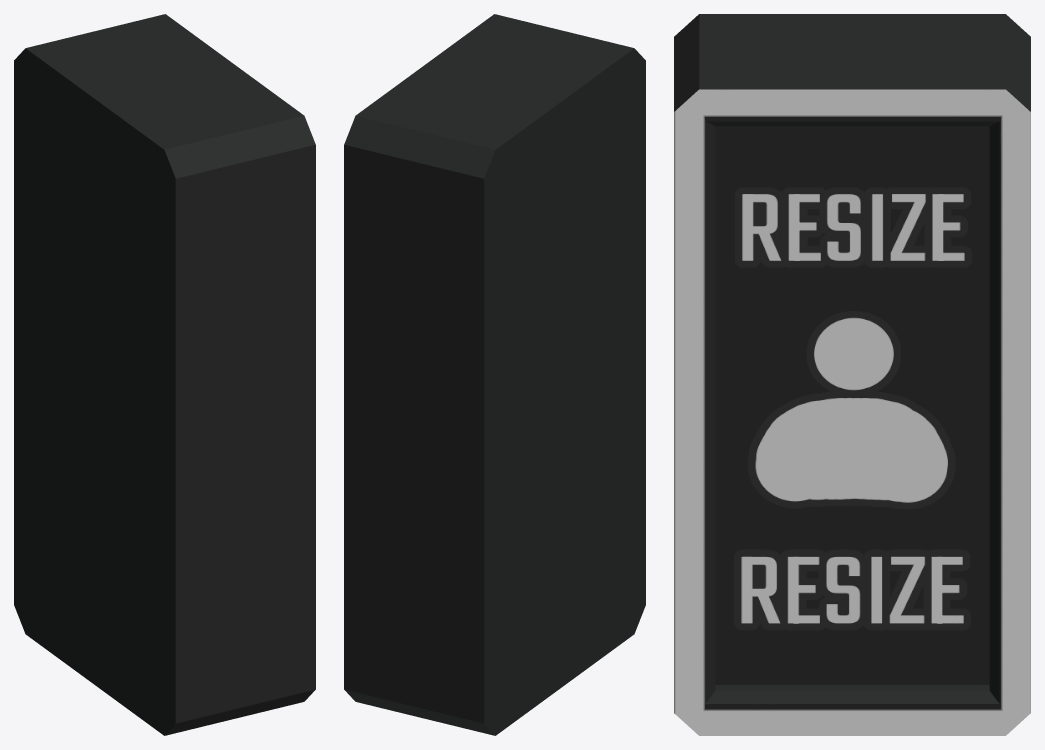
Rendered from Button_resize.fbx.
3 views of the same model, side by side, from view 1: azimuth 30°, elevation 25°; view 2: azimuth 150°, elevation 25°; view 3: azimuth 270°, elevation 25° (orthographic). The views are drawn at different scales.
Visible parts, largest first — view 1: Cube; view 2: Cube; view 3: Cube.
Boxes of the visible parts, x1,y1,x2,y2 form: Cube: (14, 14, 315, 735); Cube: (344, 14, 645, 735); Cube: (674, 14, 1030, 735).
Bounding box in the file's own units: 100 × 400 × 200.
1 material, 1 textured.
